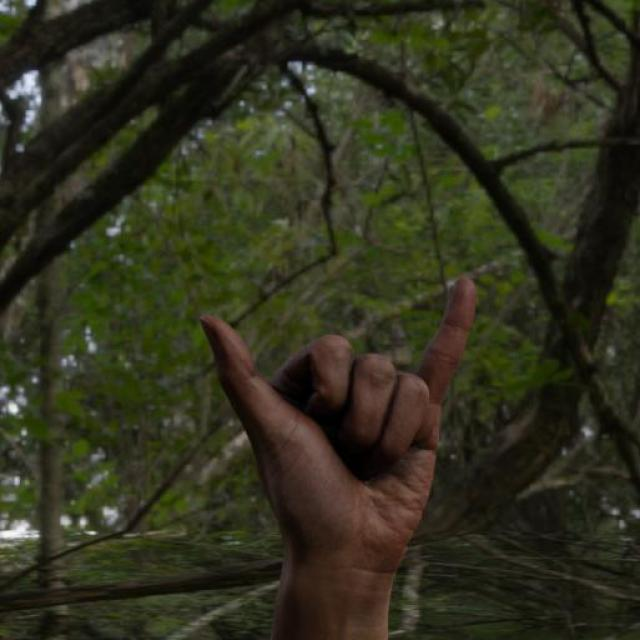Y: (196, 274, 478, 554)
